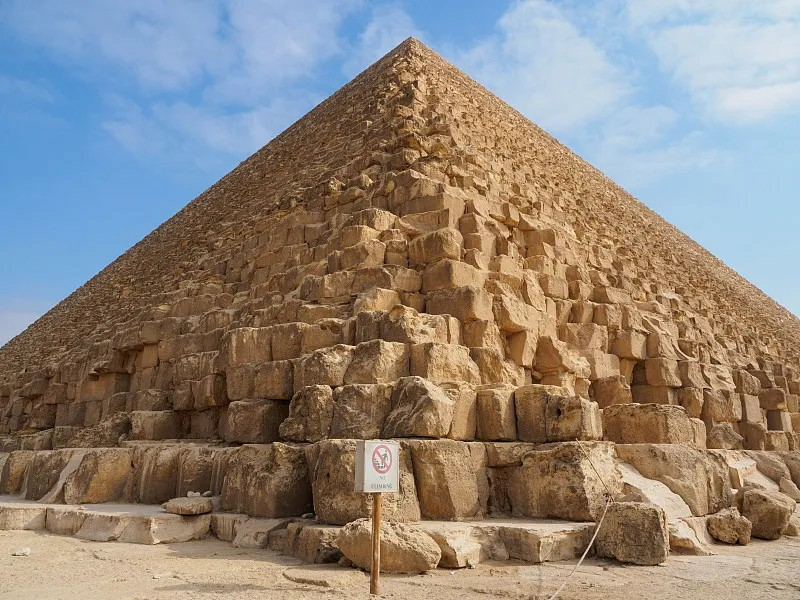Pyramid: (1, 36, 800, 571)
